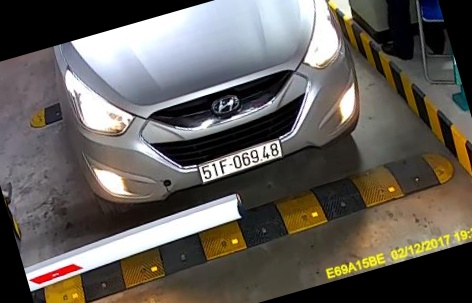plate: (191, 132, 289, 190)
